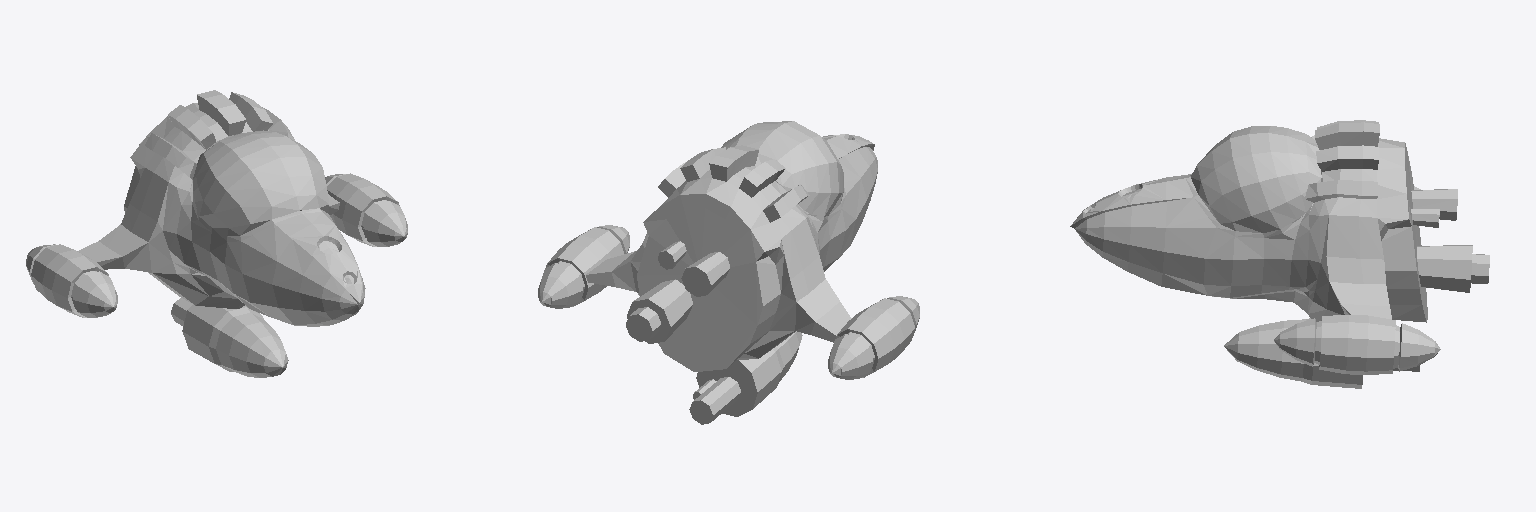
Rendered from Blue Spaceship.obj.
The picture shows the model from 3 angles: view 1: azimuth 30°, elevation 25°; view 2: azimuth 150°, elevation 25°; view 3: azimuth 270°, elevation 25°; orthographic projection.
Visible parts, largest first — view 1: BlueShip; view 2: BlueShip; view 3: BlueShip.
Boxes of the visible parts, <box> form: BlueShip: <box>26,90,407,377</box>; BlueShip: <box>538,121,919,424</box>; BlueShip: <box>1070,120,1489,388</box>.
Size of the model in its own units: 175 by 127 by 187.